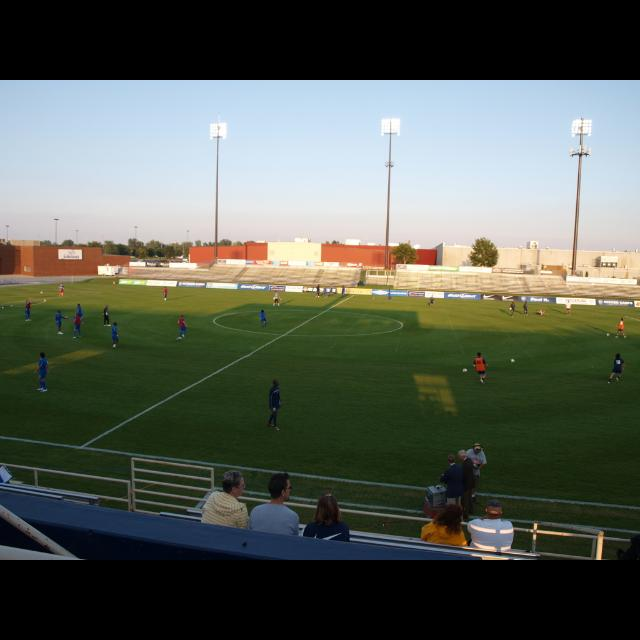Football: (463, 368, 467, 372)
